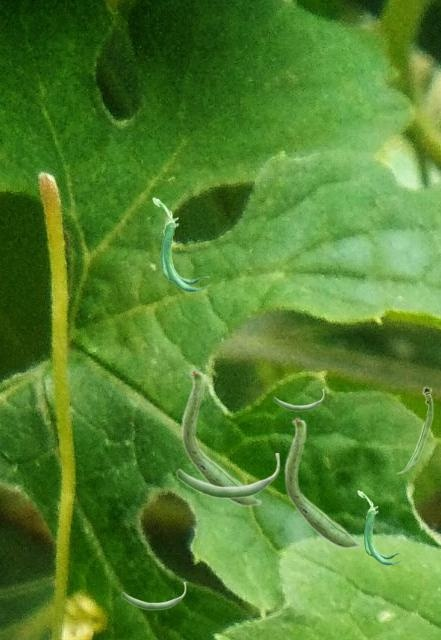french_bean: (181, 368, 261, 506), (284, 416, 360, 548), (152, 197, 209, 291), (176, 453, 279, 498), (357, 490, 402, 564), (396, 386, 432, 473), (121, 582, 185, 609), (273, 389, 323, 410)
